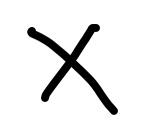mult: (27, 24, 119, 115)
